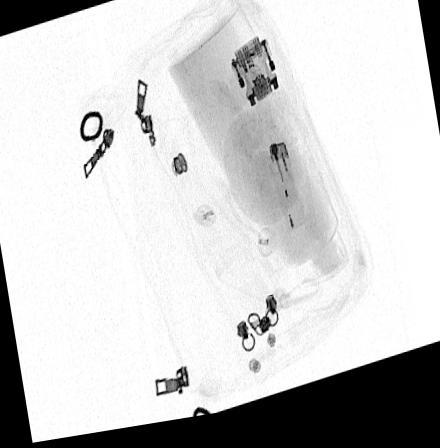Lighter: (268, 149, 304, 241)
